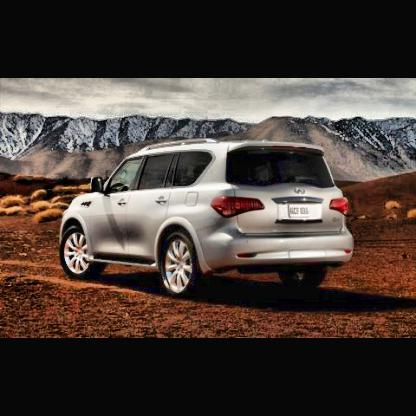Infiniti QX56 SUV 2011: (59, 138, 358, 300)
